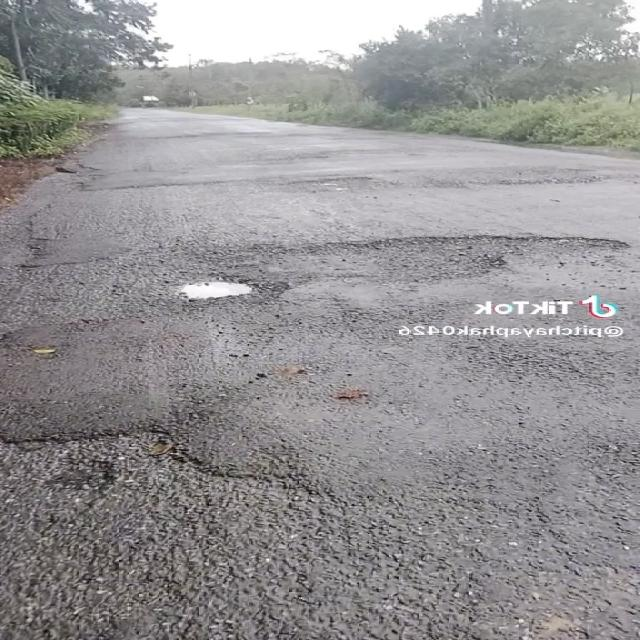Poth-hole: (154, 248, 269, 348)
